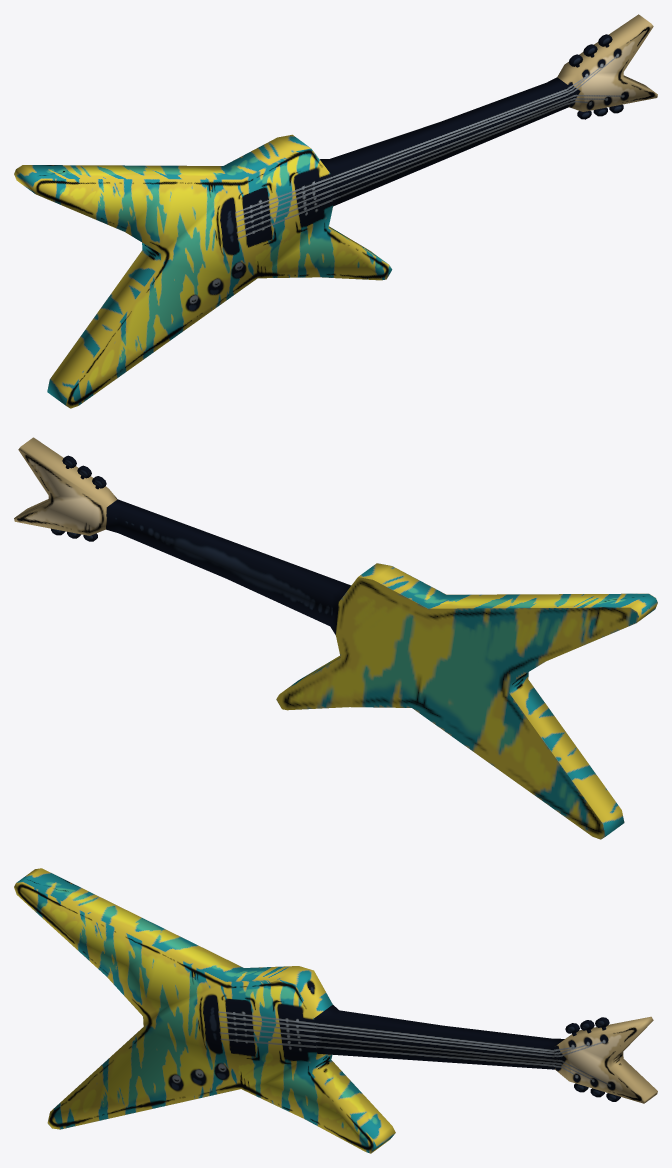
The model's file is Electric_Guitar.fbx.
3 renders of one model, top to bottom at view 1: azimuth 30°, elevation 25°; view 2: azimuth 150°, elevation 25°; view 3: azimuth 330°, elevation 25°, orthographic.
Parts seen in each view (by area): view 1: guitar_low; view 2: guitar_low; view 3: guitar_low.
Boxes of the visible parts, bbox=[...] form: guitar_low: bbox=[14, 14, 657, 408]; guitar_low: bbox=[14, 437, 657, 839]; guitar_low: bbox=[14, 868, 657, 1153].
Size of the model in its own units: 4.99 by 1.85 by 0.2599.
